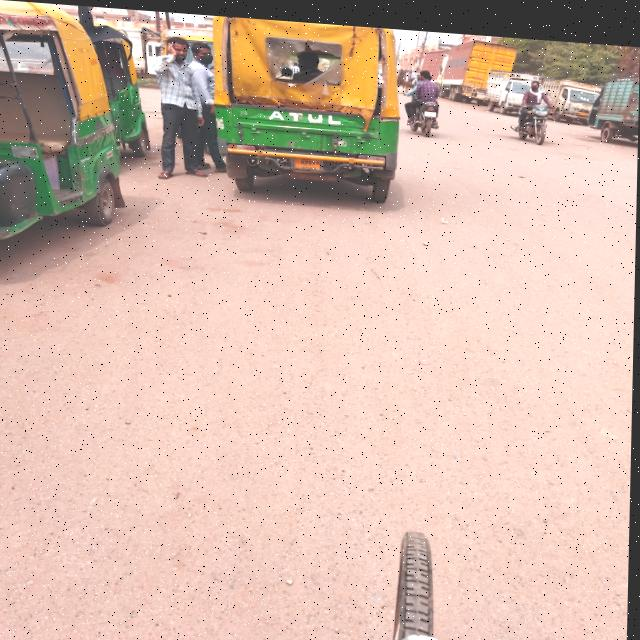plate: (289, 147, 326, 172)
